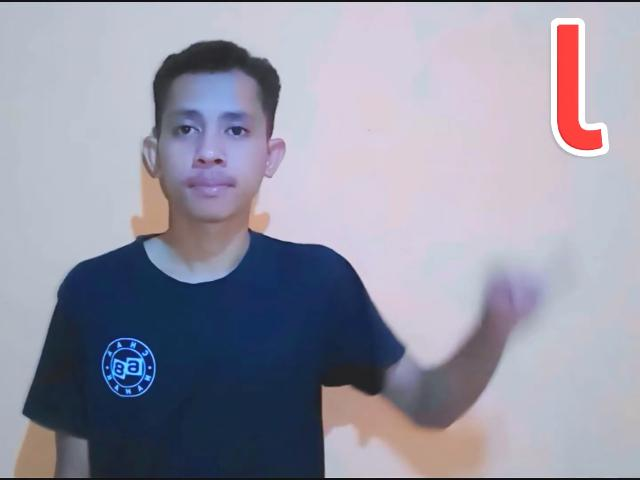J: (482, 231, 600, 335)
